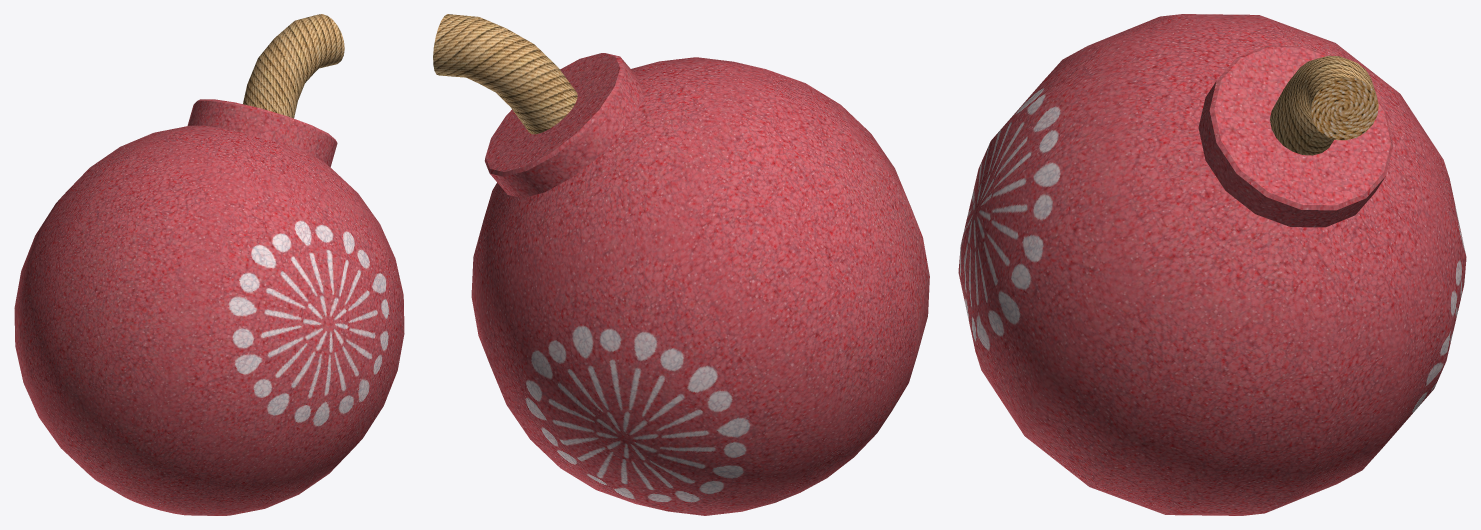
The model's file is FireworksBall.fbx.
3 views of the same model, side by side, from view 1: azimuth 30°, elevation 25°; view 2: azimuth 150°, elevation 25°; view 3: azimuth 270°, elevation 25° (orthographic). The views are drawn at different scales.
Parts seen in each view (by area): view 1: SM_HanabiBall_01; view 2: SM_HanabiBall_01; view 3: SM_HanabiBall_01.
Boxes of the visible parts, x1,y1,x2,y2 form: SM_HanabiBall_01: (14, 14, 404, 515); SM_HanabiBall_01: (433, 14, 929, 515); SM_HanabiBall_01: (958, 14, 1466, 515).
Bounding box in the file's own units: 50.12 × 57.09 × 49.92.
